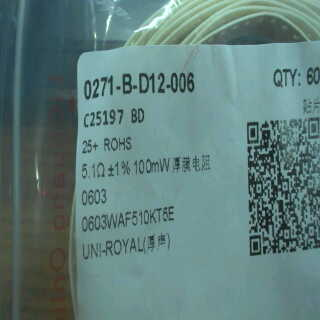5.1R: (80, 160, 107, 185)
